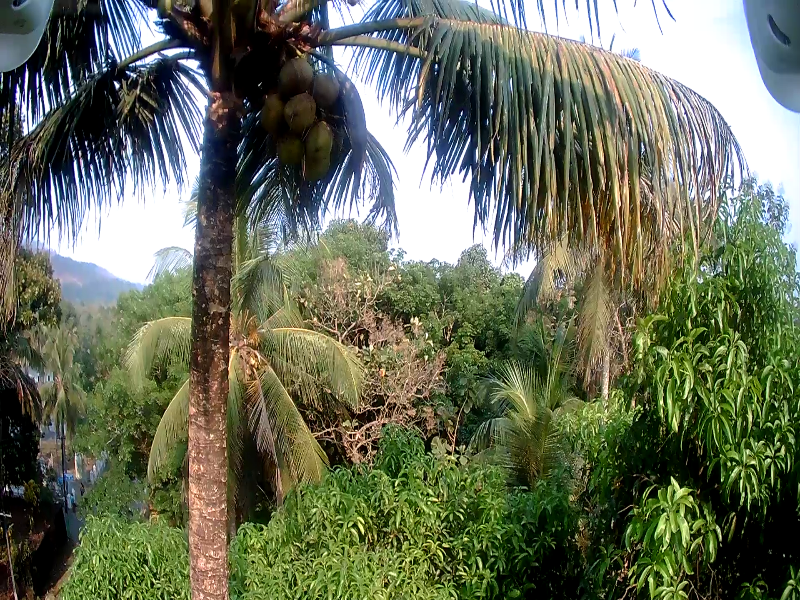coconut: (311, 123, 338, 161), (281, 55, 312, 87), (316, 72, 340, 105), (287, 98, 316, 124), (300, 155, 328, 180), (281, 137, 301, 169), (260, 100, 280, 126)
